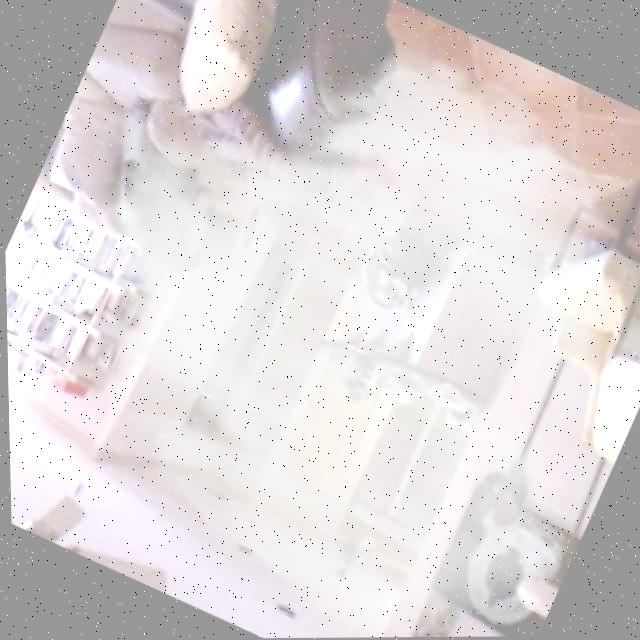Smoke: (6, 0, 640, 638)
